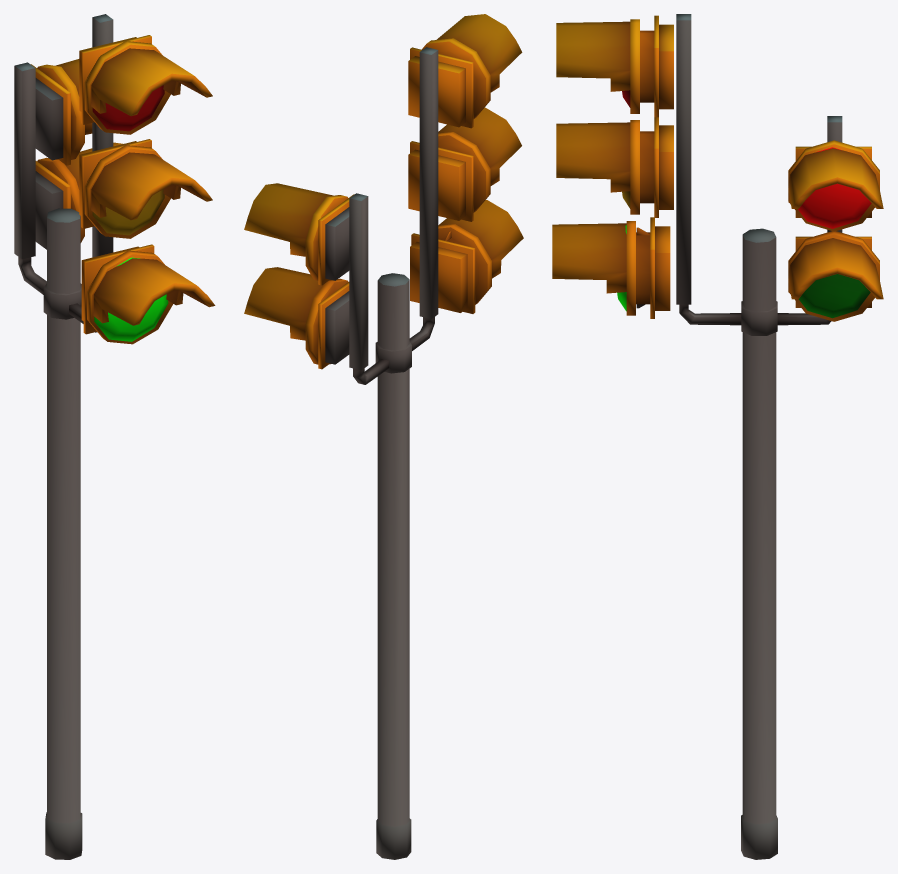
File: furnishings-outdoor-yellowtrafficlight_v1.glb
The picture shows the model from 3 angles, left to right: view 1: azimuth 30°, elevation 25°; view 2: azimuth 150°, elevation 25°; view 3: azimuth 270°, elevation 25°; orthographic projection. The views are drawn at different scales.
Parts seen in each view (by area): view 1: YellowTrafficLight_v1_base, YellowTrafficLight_v1_light; view 2: YellowTrafficLight_v1_base; view 3: YellowTrafficLight_v1_base, YellowTrafficLight_v1_light.
Part boxes in pixels (x1,y1,x2,y2): YellowTrafficLight_v1_base: [14, 14, 215, 859]; YellowTrafficLight_v1_light: [94, 257, 168, 341]; YellowTrafficLight_v1_base: [244, 14, 523, 859]; YellowTrafficLight_v1_base: [552, 14, 883, 859]; YellowTrafficLight_v1_light: [617, 147, 871, 311].
Size of the model in its own units: 0.6578 by 3.78 by 1.36.
